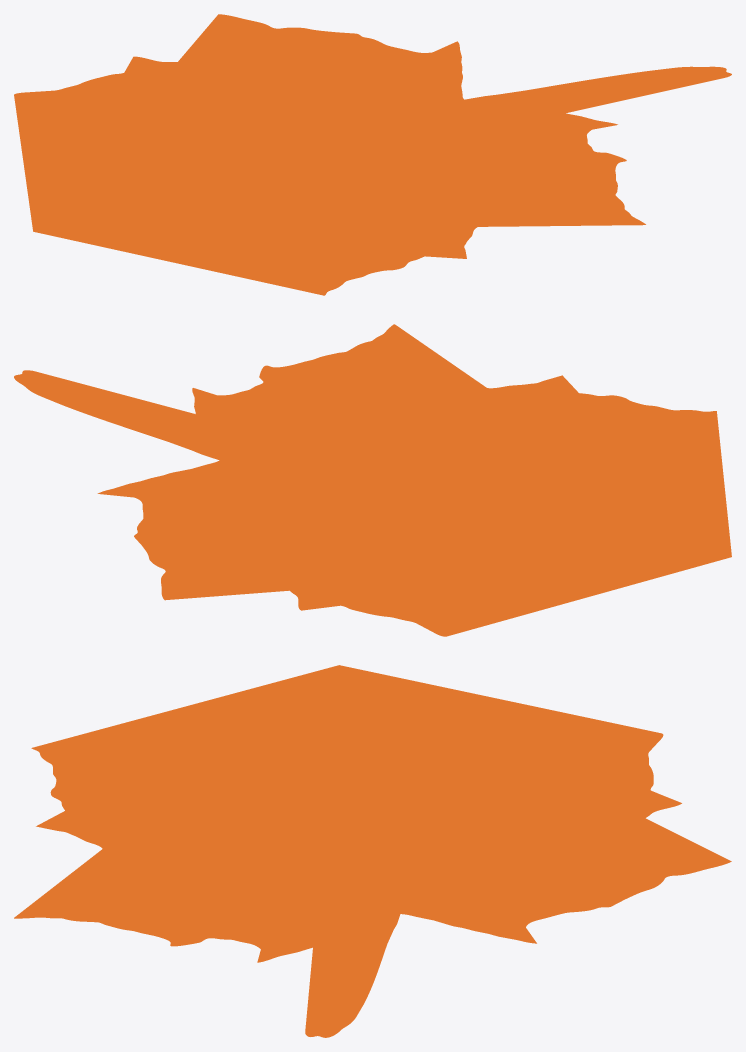
File: leaf.obj
The picture shows the model from 3 angles, top to bottom: view 1: azimuth 30°, elevation 25°; view 2: azimuth 150°, elevation 25°; view 3: azimuth 270°, elevation 25°; orthographic projection. The views are drawn at different scales.
Visible parts, largest first — view 1: Selection; view 2: Selection; view 3: Selection.
Boxes of the visible parts, x1,y1,x2,y2 form: Selection: (14, 14, 731, 295); Selection: (14, 324, 731, 636); Selection: (14, 665, 731, 1037).
Bounding box in the file's own units: 1.84 × 0 × 1.49.
Materials: 1 (1 with a texture image).
